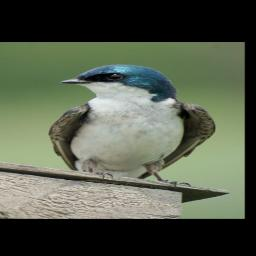Swallow: (47, 63, 216, 188)
